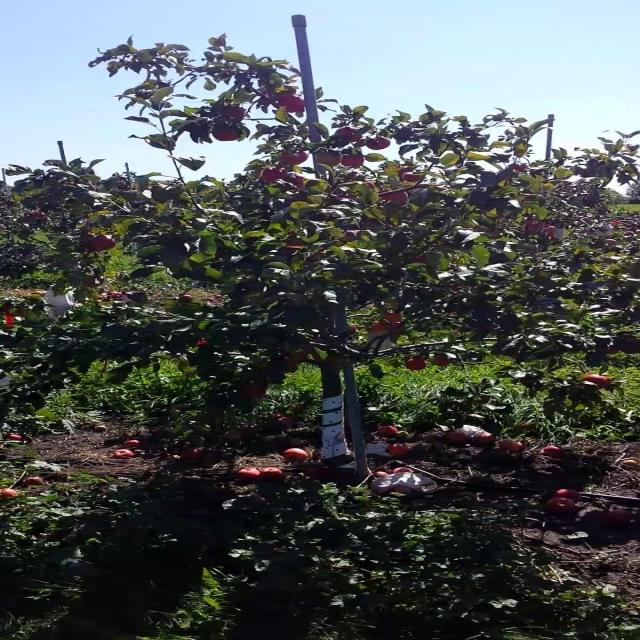apple: (333, 128, 363, 144), (241, 384, 270, 398), (92, 236, 117, 252), (582, 376, 612, 389), (262, 168, 286, 184), (618, 336, 638, 355), (383, 192, 411, 205), (212, 132, 242, 144), (284, 152, 311, 165), (220, 108, 249, 120), (404, 168, 425, 184), (319, 152, 341, 167), (285, 96, 306, 111), (284, 352, 309, 364), (340, 156, 364, 168), (404, 360, 427, 372), (369, 140, 391, 152), (284, 176, 306, 188), (99, 292, 126, 301), (383, 312, 405, 323), (433, 356, 452, 368), (596, 348, 619, 356), (284, 360, 299, 372), (284, 240, 306, 248), (326, 356, 343, 366), (84, 280, 105, 288), (518, 424, 539, 432), (547, 228, 560, 240), (525, 220, 540, 230), (547, 228, 558, 240), (376, 324, 389, 334), (333, 156, 347, 165), (390, 324, 405, 332), (490, 232, 505, 240), (412, 256, 427, 264), (511, 164, 526, 172), (198, 340, 212, 347), (6, 316, 14, 328), (348, 232, 361, 237)
